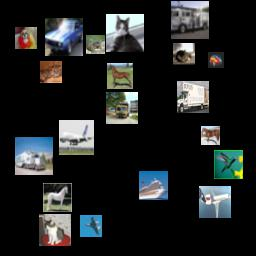airplane: (59, 120, 94, 155), (199, 186, 231, 218), (80, 215, 102, 237)
automobile: (45, 18, 83, 56), (208, 52, 224, 68)
bird: (214, 150, 243, 179)
cat: (106, 14, 144, 52), (39, 214, 71, 246), (40, 61, 62, 83), (173, 43, 195, 65)
dog: (15, 27, 37, 49)
frog: (86, 35, 105, 54)
ship: (139, 171, 168, 200)
truck: (171, 1, 209, 39), (15, 137, 53, 175), (177, 81, 209, 113), (106, 92, 138, 124)
